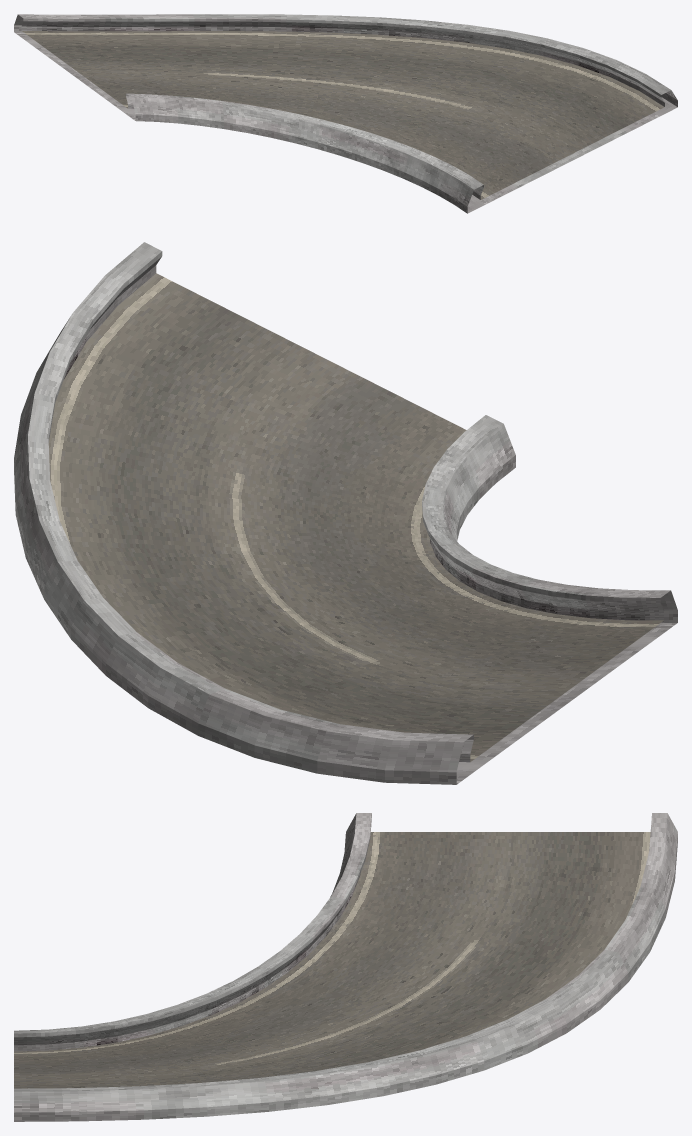
Rendered from road-Turn-HalfBankedLeft-BiSlopeUp-Up1-Left-Size2.glb.
The picture shows the model from 3 angles, top to bottom: view 1: azimuth 30°, elevation 25°; view 2: azimuth 150°, elevation 25°; view 3: azimuth 270°, elevation 25°; orthographic projection. The views are drawn at different scales.
Visible parts, largest first — view 1: road-Turn-HalfBankedLeft-BiSlopeUp-Up1-Left-Size2; view 2: road-Turn-HalfBankedLeft-BiSlopeUp-Up1-Left-Size2; view 3: road-Turn-HalfBankedLeft-BiSlopeUp-Up1-Left-Size2.
Boxes of the visible parts, x1,y1,x2,y2 form: road-Turn-HalfBankedLeft-BiSlopeUp-Up1-Left-Size2: (14, 14, 677, 213); road-Turn-HalfBankedLeft-BiSlopeUp-Up1-Left-Size2: (14, 242, 677, 784); road-Turn-HalfBankedLeft-BiSlopeUp-Up1-Left-Size2: (14, 813, 677, 1121).
Bounding box in the file's own units: 2 × 0.3437 × 2.
Materials: 2 (2 with a texture image).
